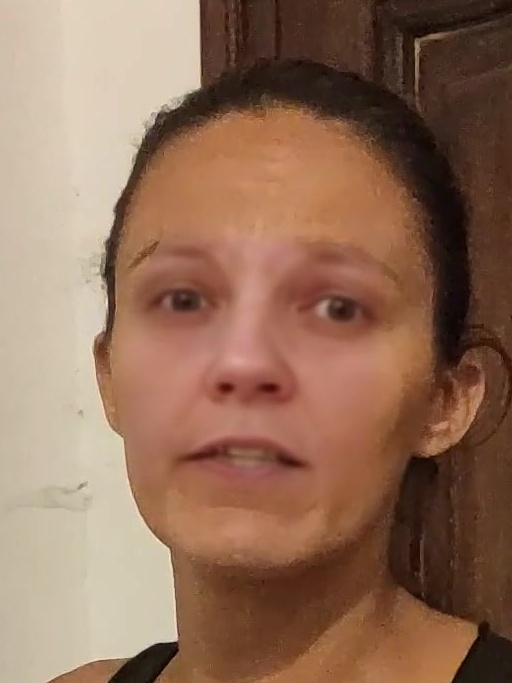eb_f: (121, 225, 417, 346)
